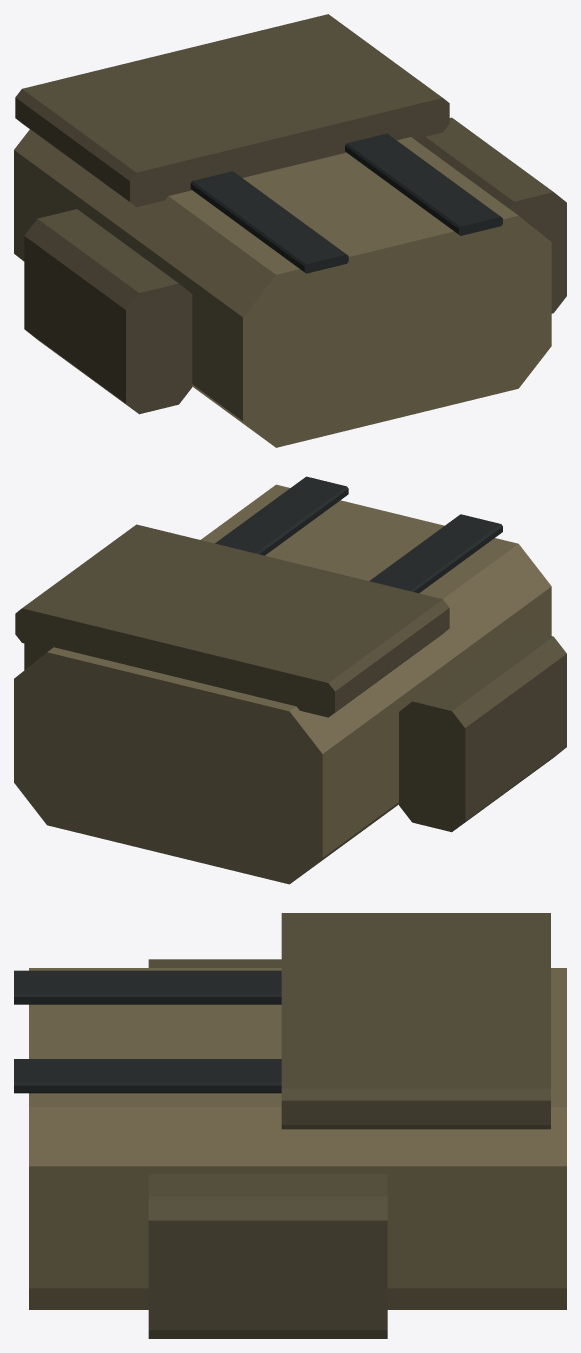
File: FieldPack.gltf
3 renders of one model, top to bottom at view 1: azimuth 30°, elevation 25°; view 2: azimuth 150°, elevation 25°; view 3: azimuth 270°, elevation 25°, orthographic. The views are drawn at different scales.
Parts seen in each view (by area): view 1: FieldPack; view 2: FieldPack; view 3: FieldPack.
Part boxes in pixels (x1,y1,x2,y2): FieldPack: [14, 14, 566, 447]; FieldPack: [14, 476, 566, 884]; FieldPack: [14, 913, 566, 1338].
Bounding box in the file's own units: 0.4 × 0.177 × 0.37.
